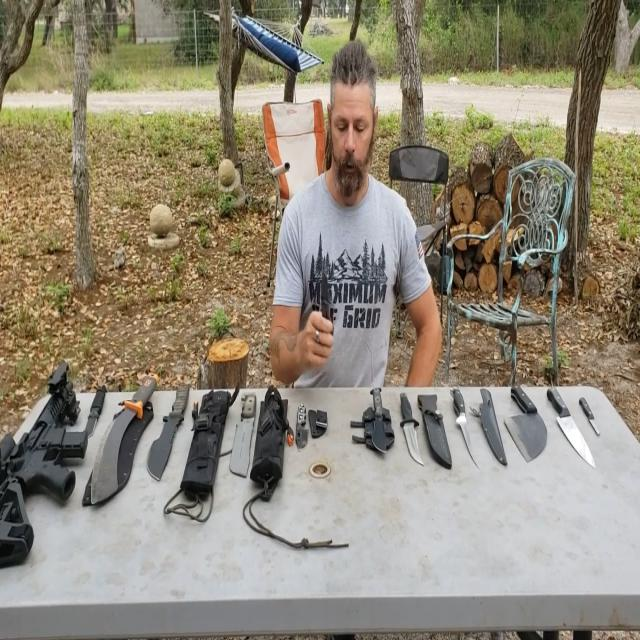knife: (90, 344, 152, 514), (140, 366, 209, 482), (498, 366, 552, 474), (545, 383, 601, 472), (224, 384, 262, 488), (442, 376, 482, 468), (393, 369, 428, 471), (362, 375, 395, 467), (282, 390, 316, 472), (310, 260, 336, 363), (82, 369, 109, 440), (576, 384, 606, 440)
long weapon: (0, 332, 108, 594)
